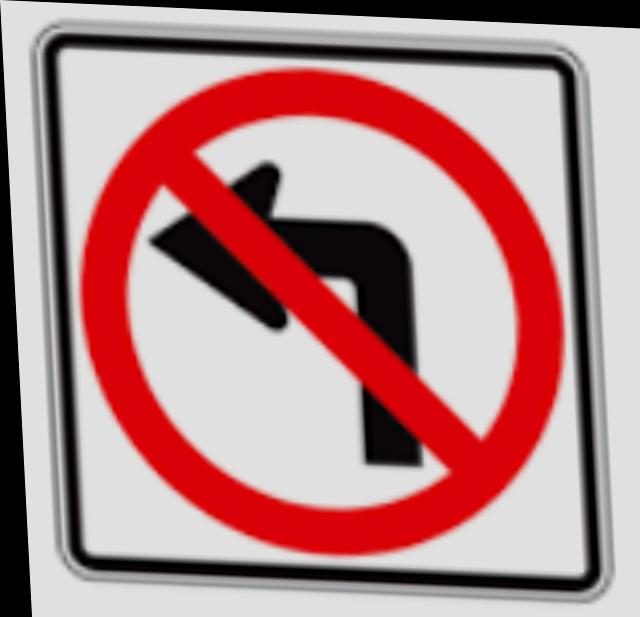not_turn_left: (75, 59, 583, 551)
